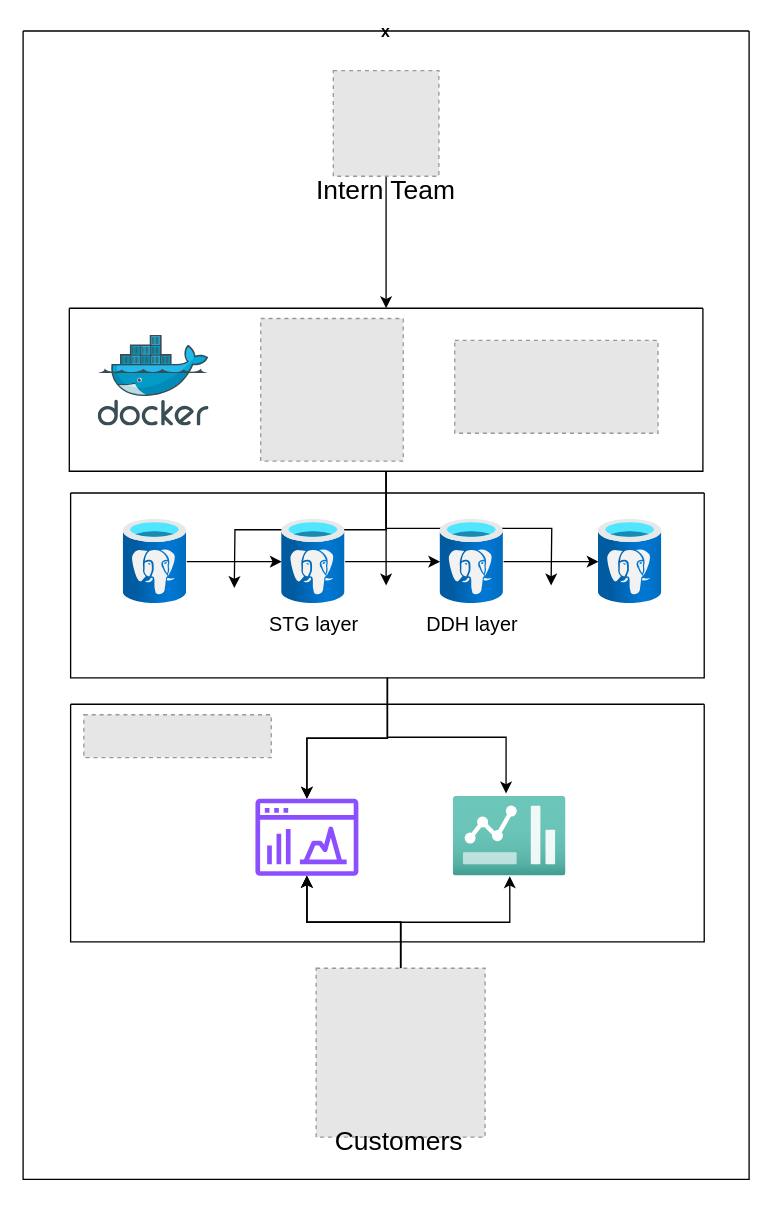
The diagram is 772 pixels wide and 1214 high, and some of its shapes have lost their labels. Grey dashed boxes stand in for pictures. The shapes that lost their labels are listed below. From the top down, each one's box as (x1, y1, x2, y2) in pixels, then its label:
(123, 519, 186, 603): Sourse layer
(598, 519, 661, 603): DM layer
